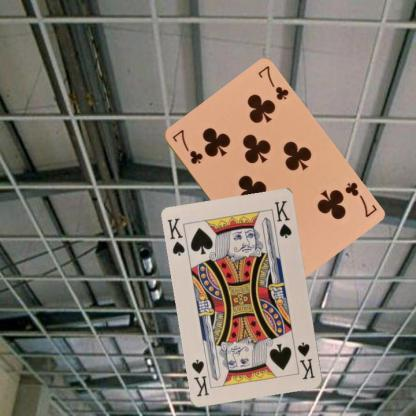7c: (341, 179, 378, 219), (169, 126, 204, 166)
Ks: (165, 216, 187, 258), (295, 340, 317, 381)
